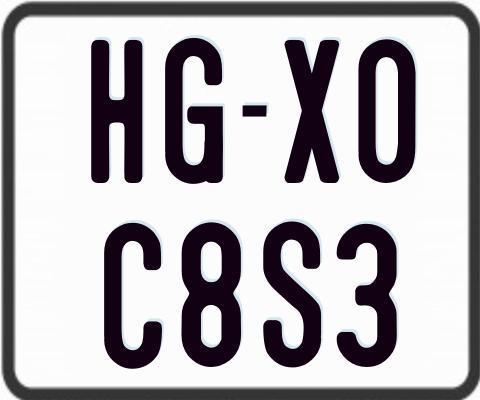0: (356, 37, 416, 182)
3: (337, 224, 399, 370)
8: (181, 220, 245, 367)
C: (104, 220, 162, 366)
G: (162, 37, 224, 184)
H: (88, 38, 145, 185)
S: (262, 220, 326, 368)
X: (284, 40, 344, 185)
